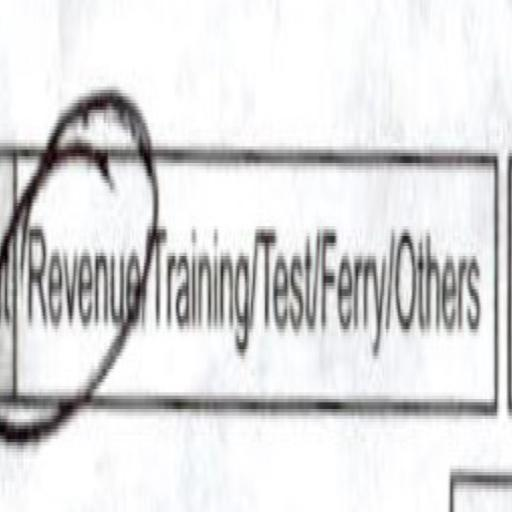check: (17, 76, 145, 462)
